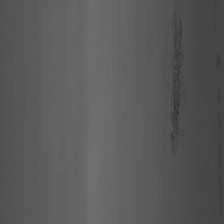inclusion: (164, 10, 190, 154)
